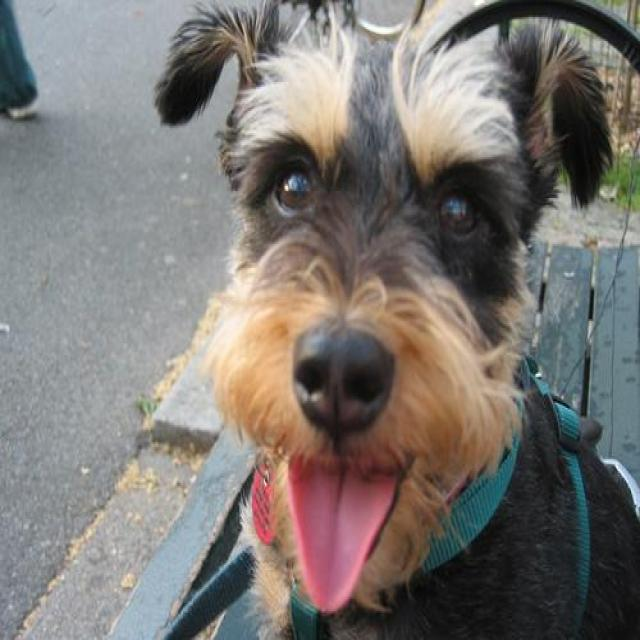happy: (160, 0, 578, 640)
